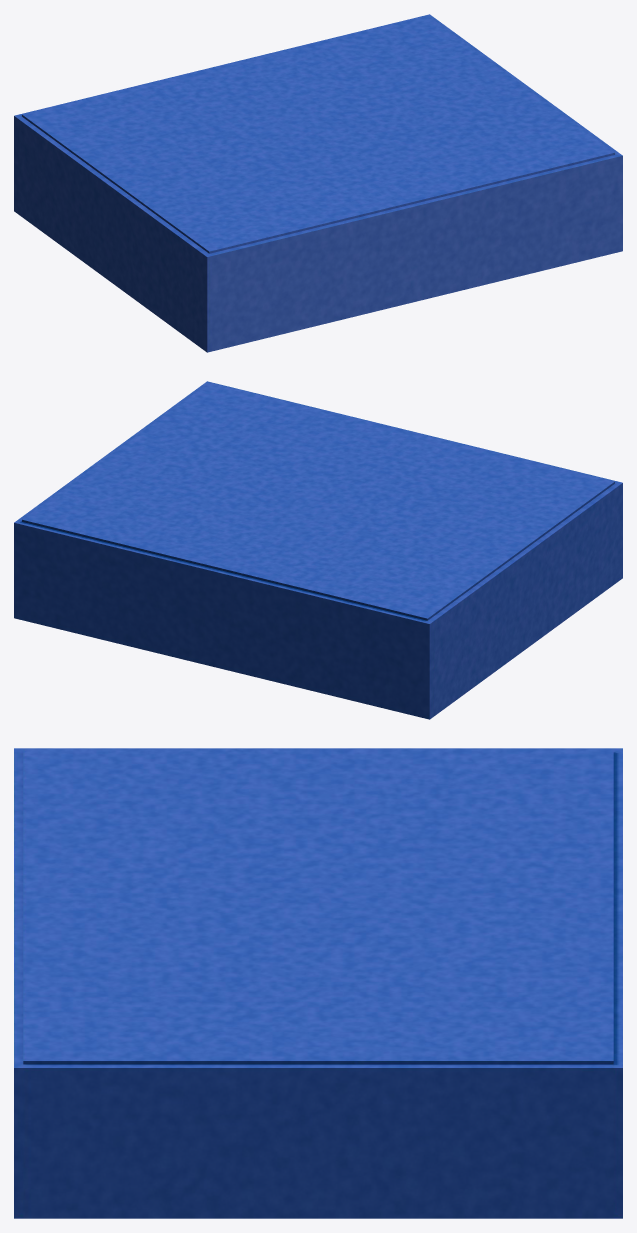
Rendered from room_studio_v1.glb.
3 renders of one model, top to bottom at view 1: azimuth 30°, elevation 25°; view 2: azimuth 150°, elevation 25°; view 3: azimuth 270°, elevation 25°, orthographic. The views are drawn at different scales.
Visible parts, largest first — view 1: R_studio_shell; view 2: R_studio_shell; view 3: R_studio_shell.
Boxes of the visible parts, x1,y1,x2,y2 form: R_studio_shell: (14,14,622,352); R_studio_shell: (14,381,622,719); R_studio_shell: (14,748,622,1218).
Bounding box in the file's own units: 20.5 × 4.7 × 16.5.
Materials: 5 (5 with a texture image).
